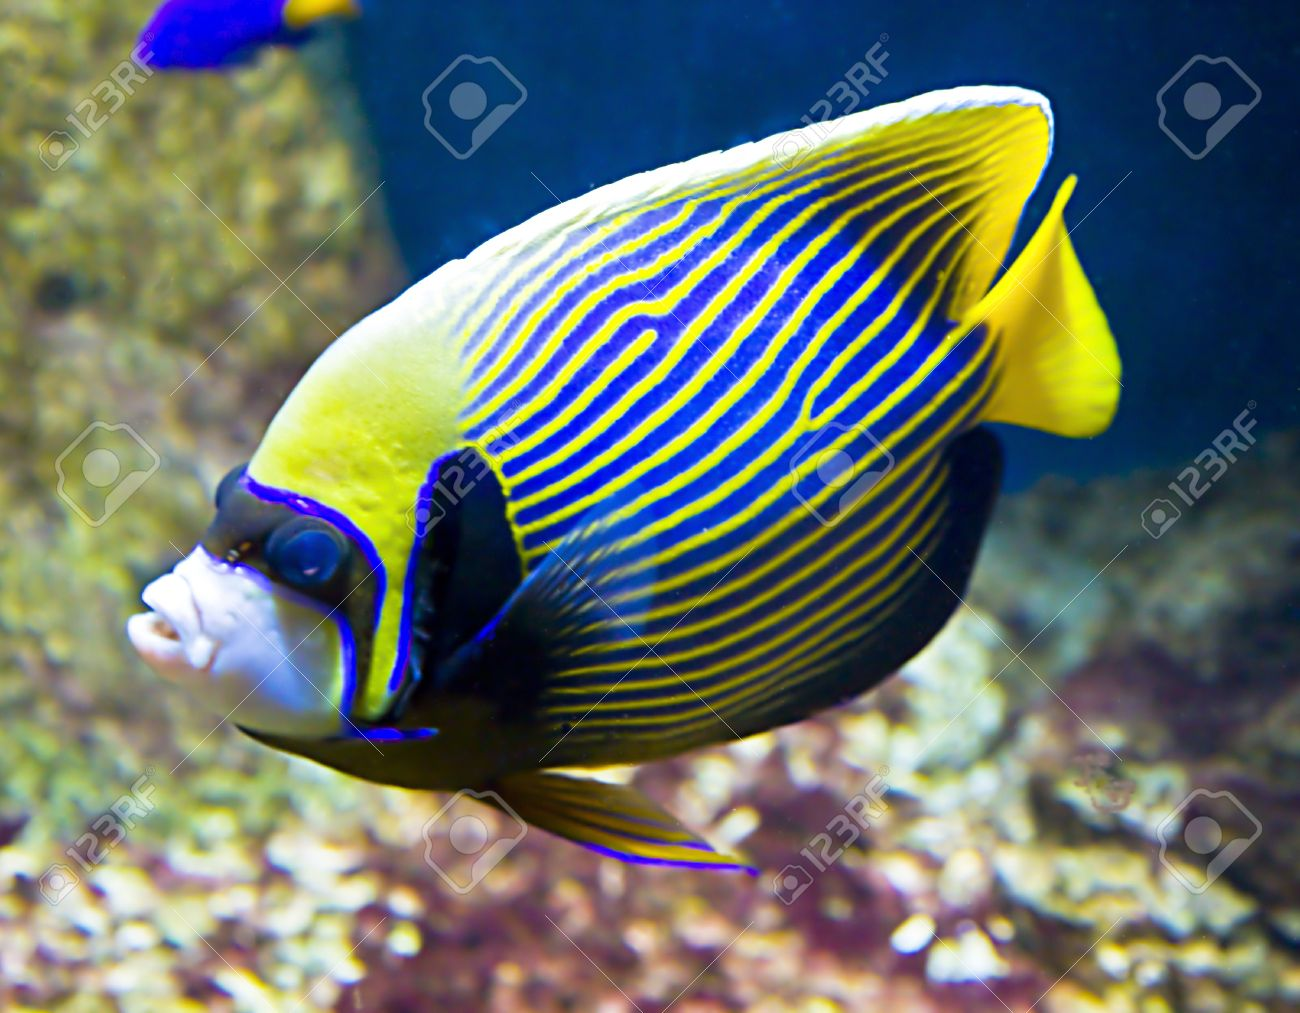Pomacanthus_imperator: (111, 76, 1143, 903)
